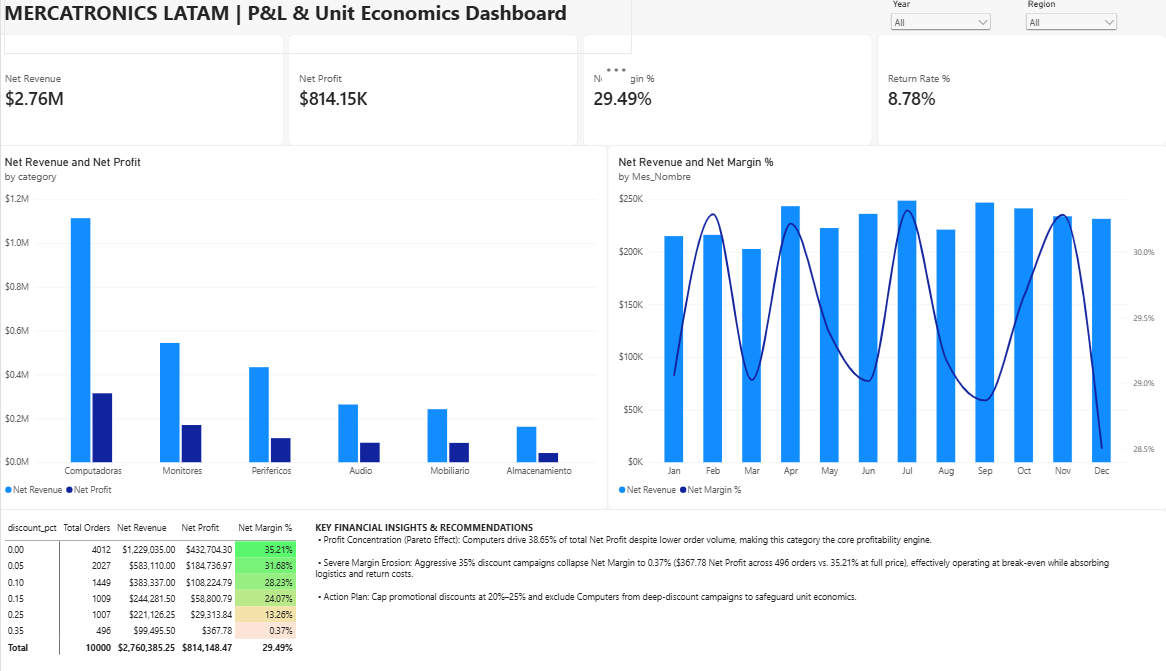

The page's visual inventory and layout, read from the dashboard file:
{"tool":"powerbi","page":{"name":"Page 1","canvas":[1920,1080],"ordinal":0},"visuals":[{"type":"pivotTable","fields":{"Rows":["fact_orders_financials.discount_pct"],"Values":["fact_orders_financials.Total Orders","fact_orders_financials.Net Revenue","fact_orders_financials.Net Profit","fact_orders_financials.Net Margin %"]},"box":[0,817.2,1877.2,263.5],"z":0},{"type":"lineClusteredColumnComboChart","fields":{"Category":["dim_products.category"],"Y":["fact_orders_financials.Net Revenue","fact_orders_financials.Net Profit"]},"box":[0,236,982,582],"z":1000},{"type":"lineClusteredColumnComboChart","fields":{"Category":["Calendario.Mes_Nombre"],"Y":["fact_orders_financials.Net Revenue"],"Y2":["fact_orders_financials.Net Margin %"]},"box":[982,236,896,582],"z":2000},{"type":"textbox","box":[871,126,150,220],"z":3000},{"type":"textbox","box":[871,126,150,220],"z":4000},{"type":"textbox","box":[871,126,150,220],"z":5000},{"type":"textbox","box":[871,126,150,220],"z":6000},{"type":"textbox","box":[871,126,150,220],"z":7000},{"type":"textbox","box":[514,836,1288,244],"z":8000},{"type":"cardVisual","fields":{"Data":["fact_orders_financials.Net Revenue","fact_orders_financials.Net Profit","fact_orders_financials.Net Margin %","fact_orders_financials.Return Rate %"]},"box":[0,58,1878,178],"z":9000},{"type":"slicer","fields":{"Values":["Calendario.Anio"]},"box":[1430,0,170,76],"z":10000},{"type":"slicer","fields":{"Values":["dim_customers.region"]},"box":[1646,0,156.4,76.2],"z":11000},{"type":"textbox","box":[16,0,1006,90],"z":12000}]}

Visuals, with their boxes in screenshot pixels (x1, y1, x2, y2), scaled from the page's 1920x1080 canvas onto the 1166x671 screenshot:
pivotTable - fact_orders_financials.discount_pct x fact_orders_financials.Total Orders: detection(0, 508, 1140, 670)
lineClusteredColumnComboChart - dim_products.category x fact_orders_financials.Net Revenue: detection(0, 147, 596, 508)
lineClusteredColumnComboChart - Calendario.Mes_Nombre x fact_orders_financials.Net Revenue: detection(596, 147, 1140, 508)
textbox: detection(529, 78, 620, 215)
textbox: detection(529, 78, 620, 215)
textbox: detection(529, 78, 620, 215)
textbox: detection(529, 78, 620, 215)
textbox: detection(529, 78, 620, 215)
textbox: detection(312, 519, 1094, 670)
cardVisual - fact_orders_financials.Net Revenue x fact_orders_financials.Net Profit: detection(0, 36, 1140, 147)
slicer - Calendario.Anio: detection(868, 0, 972, 47)
slicer - dim_customers.region: detection(1000, 0, 1095, 47)
textbox: detection(10, 0, 621, 56)
